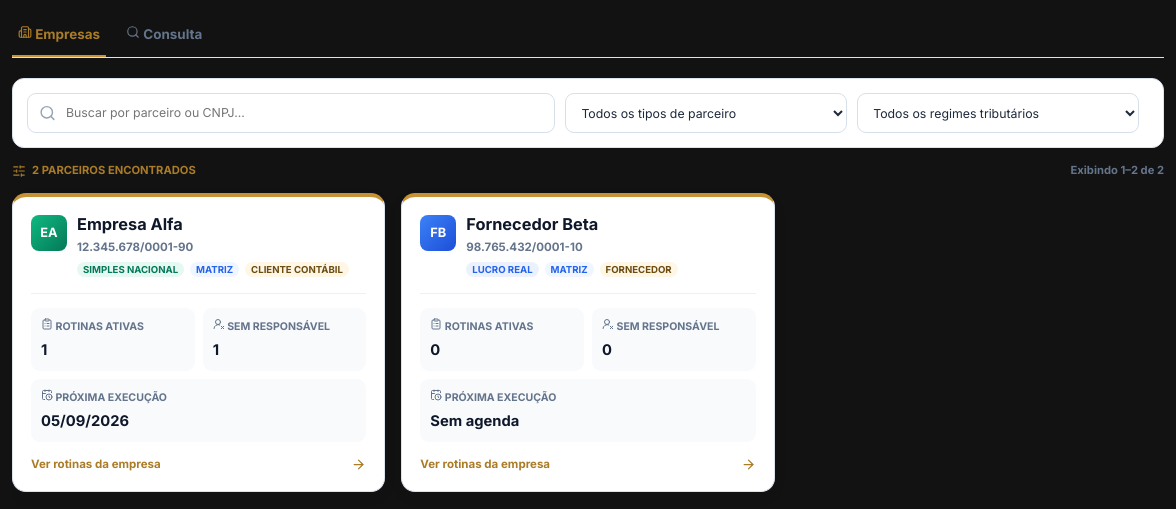
Test: AbaRotinas › filtra parceiros por tipo e impede criar rotina fora de Cliente Contábil
Select "Fornecedor" in the dropdown named "Filtrar por tipo de parceiro" at (706, 113), box [565, 93, 847, 133]
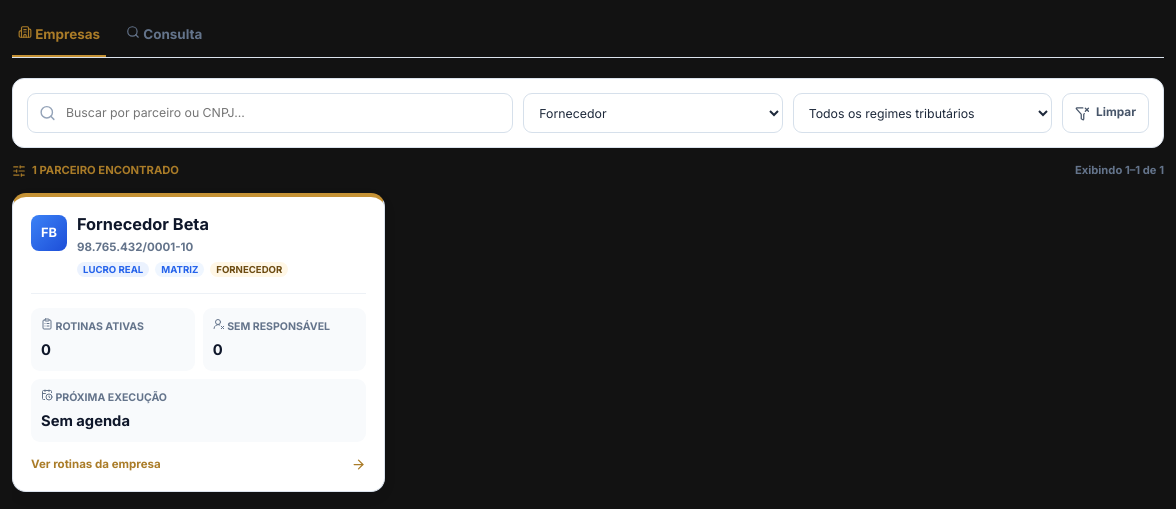
Expected: the button "Empresa Alfa" is gone
Click the button "Fornecedor Beta" at (199, 343), box [12, 193, 385, 492]
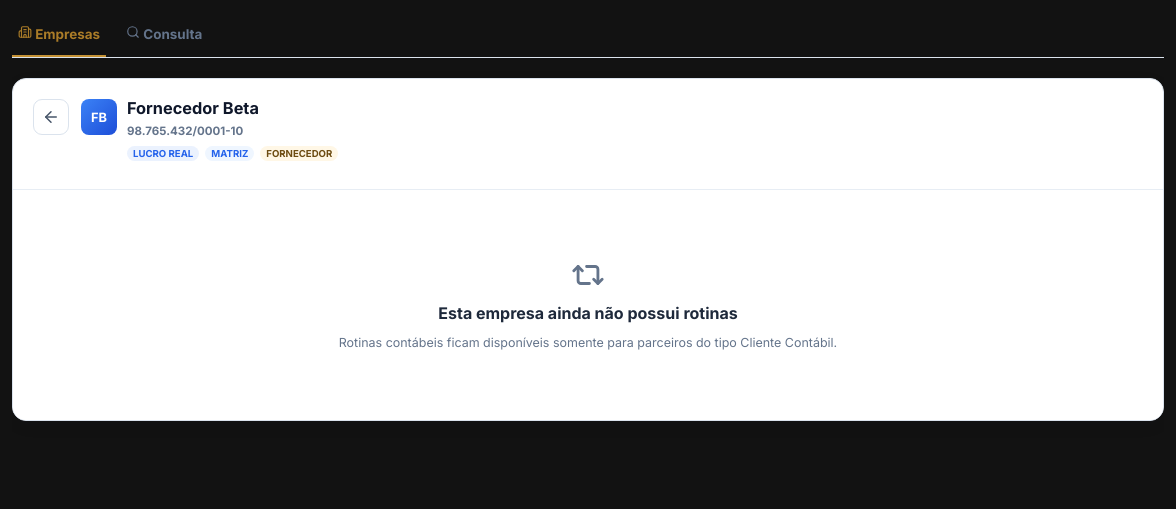
Expected: the text "somente para parceiros do tipo Cliente Contábil" is shown, [339, 335, 837, 350]
